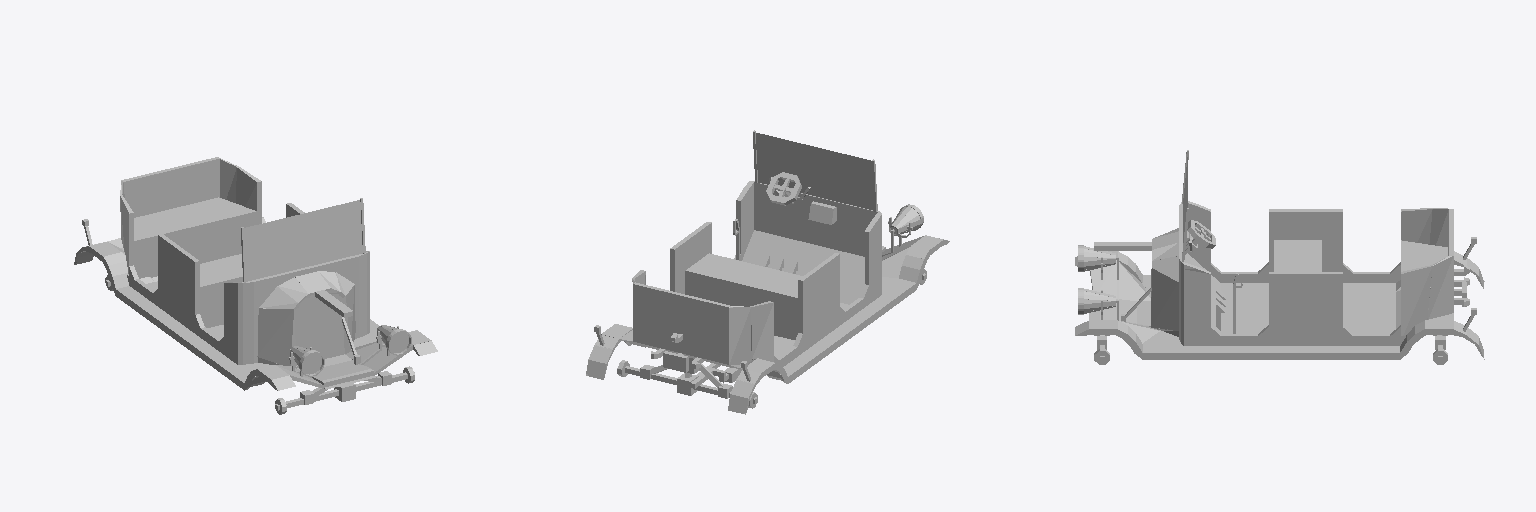
Rendered from modeltFrame.obj.
3 renders of one model, left to right at view 1: azimuth 30°, elevation 25°; view 2: azimuth 150°, elevation 25°; view 3: azimuth 270°, elevation 25°, orthographic.
Visible parts, largest first — view 1: Core, Window, $FrontSteering; view 2: Core, Window, $SteeringWheel, $BackDriveshaft; view 3: Core, $SteeringWheel.
Boxes of the visible parts, x1=… form: Core: x1=74, y1=157, x2=437, y2=390; Window: x1=244, y1=200, x2=362, y2=281; $FrontSteering: x1=275, y1=371, x2=414, y2=410; Core: x1=586, y1=130, x2=949, y2=414; Window: x1=756, y1=133, x2=873, y2=210; $SteeringWheel: x1=766, y1=172, x2=801, y2=205; $BackDriveshaft: x1=617, y1=360, x2=757, y2=408; Core: x1=1075, y1=150, x2=1484, y2=359; $SteeringWheel: x1=1125, y1=220, x2=1215, y2=317.
Size of the model in its own units: 2.19 by 2 by 4.84.